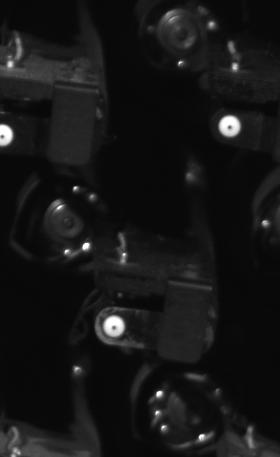fiber: (213, 109, 246, 141), (100, 309, 129, 345), (1, 120, 16, 151)
